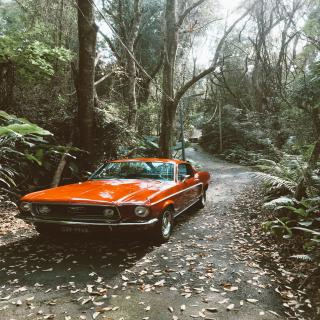Normal_vehicle: (18, 156, 214, 245)
